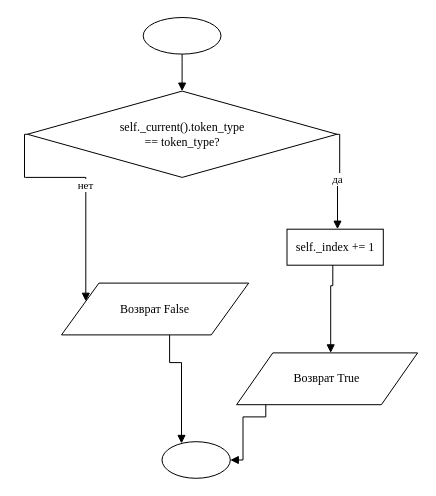
The diagram is 436 pixels wide and 496 high, and some of its shapes have lost their labels. Each missing label, with the centre of its shape:
Конец: (195,459)
Начало: (181,35)
